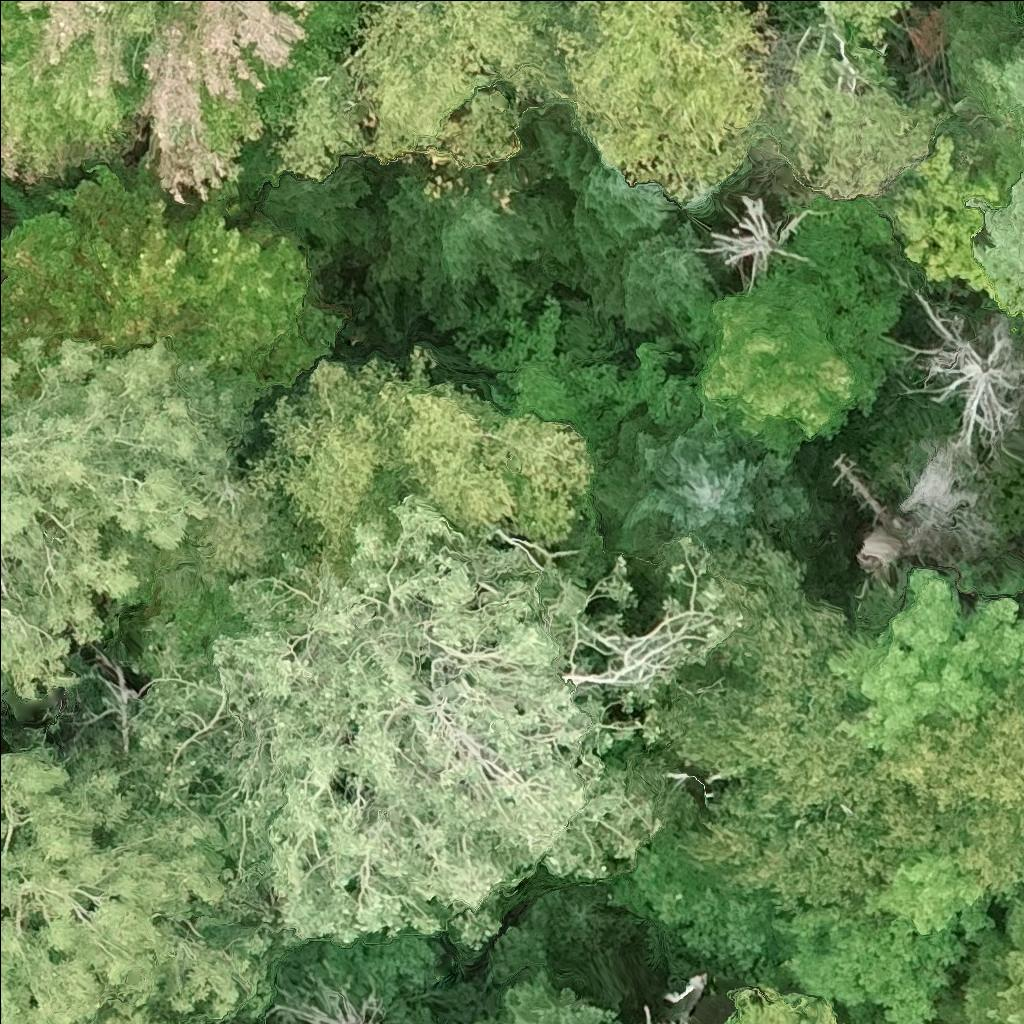crown: (118, 490, 669, 980), (0, 338, 272, 701), (0, 150, 355, 386), (0, 738, 270, 1023), (0, 0, 369, 207), (248, 343, 595, 559), (669, 528, 882, 811), (692, 195, 909, 464), (266, 0, 569, 183), (551, 0, 784, 208), (590, 416, 835, 586), (861, 669, 1023, 925), (770, 849, 996, 1023), (365, 146, 580, 328), (821, 565, 1023, 756), (684, 786, 882, 915), (526, 117, 679, 270), (574, 217, 723, 332), (970, 47, 1023, 326), (258, 159, 381, 255), (926, 903, 1023, 1023), (468, 965, 628, 1023), (717, 981, 856, 1023), (92, 1005, 177, 1023)
